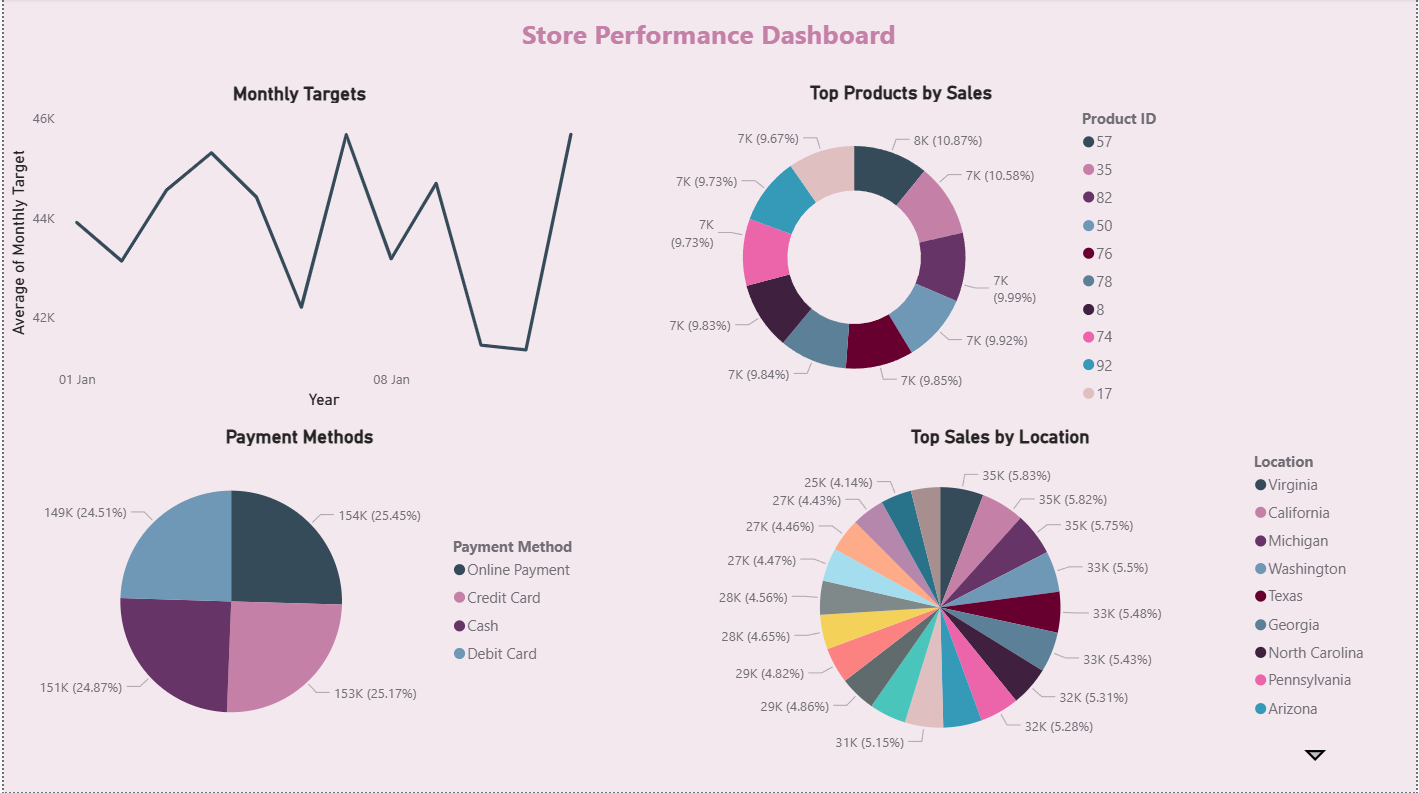

The page's visual inventory and layout, read from the dashboard file:
{"tool":"powerbi","page":{"name":"Store Performance Dash","canvas":[1280,720],"ordinal":1},"visuals":[{"type":"textbox","box":[450.1,11.3,378.9,47],"z":0},{"type":"lineChart","title":"Monthly Targets","fields":{"Y":["Avg(monthly_store_targets.Monthly Target)"],"Category":["monthly_store_targets.Month.Variation.Date Hierarchy.Year","monthly_store_targets.Month.Variation.Date Hierarchy.Quarter","monthly_store_targets.Month.Variation.Date Hierarchy.Month","monthly_store_targets.Month.Variation.Date Hierarchy.Day"]},"box":[0,76.1,536,301.2],"z":1000},{"type":"donutChart","title":"Top Products by Sales","fields":{"Category":["fact_table.Product ID"],"Y":["Sum(fact_table.Quantity Sold)"]},"box":[559.7,75.7,507.9,300.8],"z":2000},{"type":"pieChart","title":"Payment Methods","fields":{"Category":["fact_table.Payment Method"],"Y":["Sum(fact_table.Quantity Sold)"]},"box":[0,387,536,301],"z":3000},{"type":"pieChart","title":"Top Sales by Location","fields":{"Category":["customers_table.Location"],"Y":["Sum(fact_table.Quantity Sold)"]},"box":[559.4,387.4,687.9,311.8],"z":4000}]}

Visuals, with their boxes in screenshot pixels (x1, y1, x2, y2), scaled from the page's 1280x720 canvas onto the 1419x793 screenshot:
textbox: box=[499, 12, 919, 64]
"Monthly Targets" lineChart: box=[0, 84, 594, 416]
"Top Products by Sales" donutChart: box=[620, 83, 1184, 415]
"Payment Methods" pieChart: box=[0, 426, 594, 758]
"Top Sales by Location" pieChart: box=[620, 427, 1383, 770]
